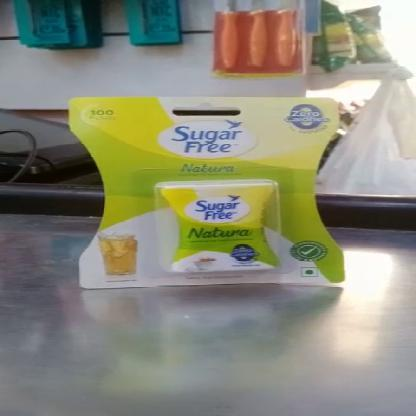SUGAR FREE NATURA 500 PELLET: (67, 97, 344, 288)
